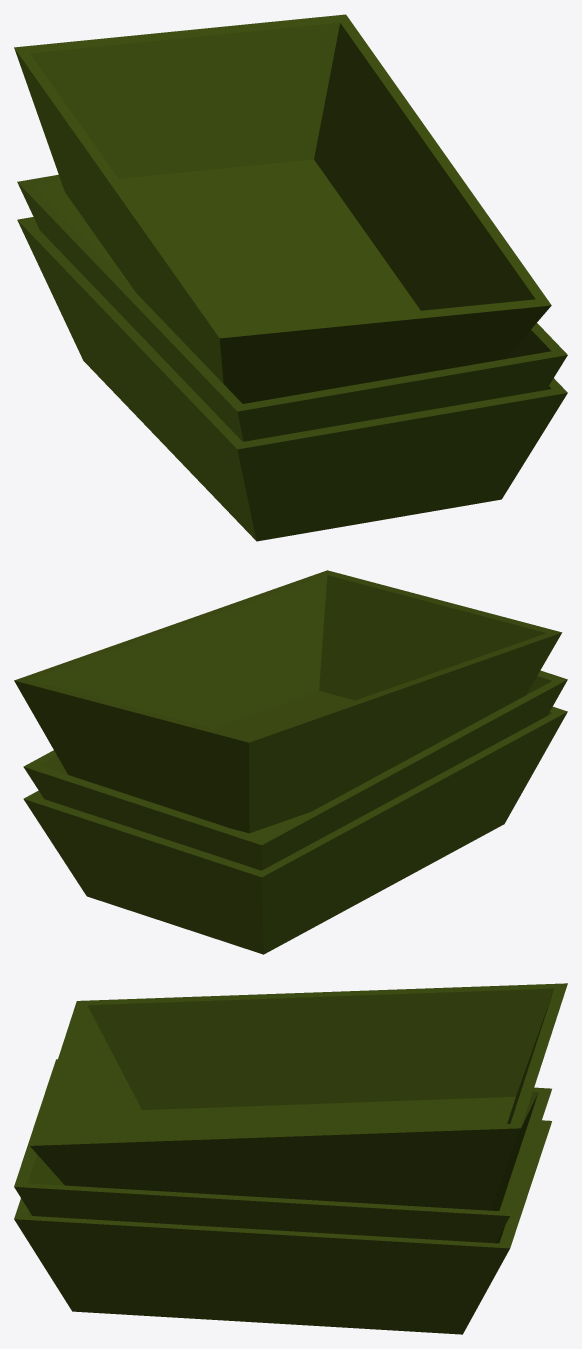
3 renders of one model, top to bottom at view 1: azimuth 30°, elevation 25°; view 2: azimuth 150°, elevation 25°; view 3: azimuth 270°, elevation 25°, orthographic. The views are drawn at different scales.
Visible parts, largest first — view 1: Box1; view 2: Box1; view 3: Box1.
Part boxes in pixels (left/top/right/bottom): Box1: left=14, top=14, right=567, bottom=541; Box1: left=14, top=570, right=567, bottom=954; Box1: left=14, top=983, right=567, bottom=1334.
Bounding box in the file's own units: 0.1354 × 0.0964 × 0.1969.
